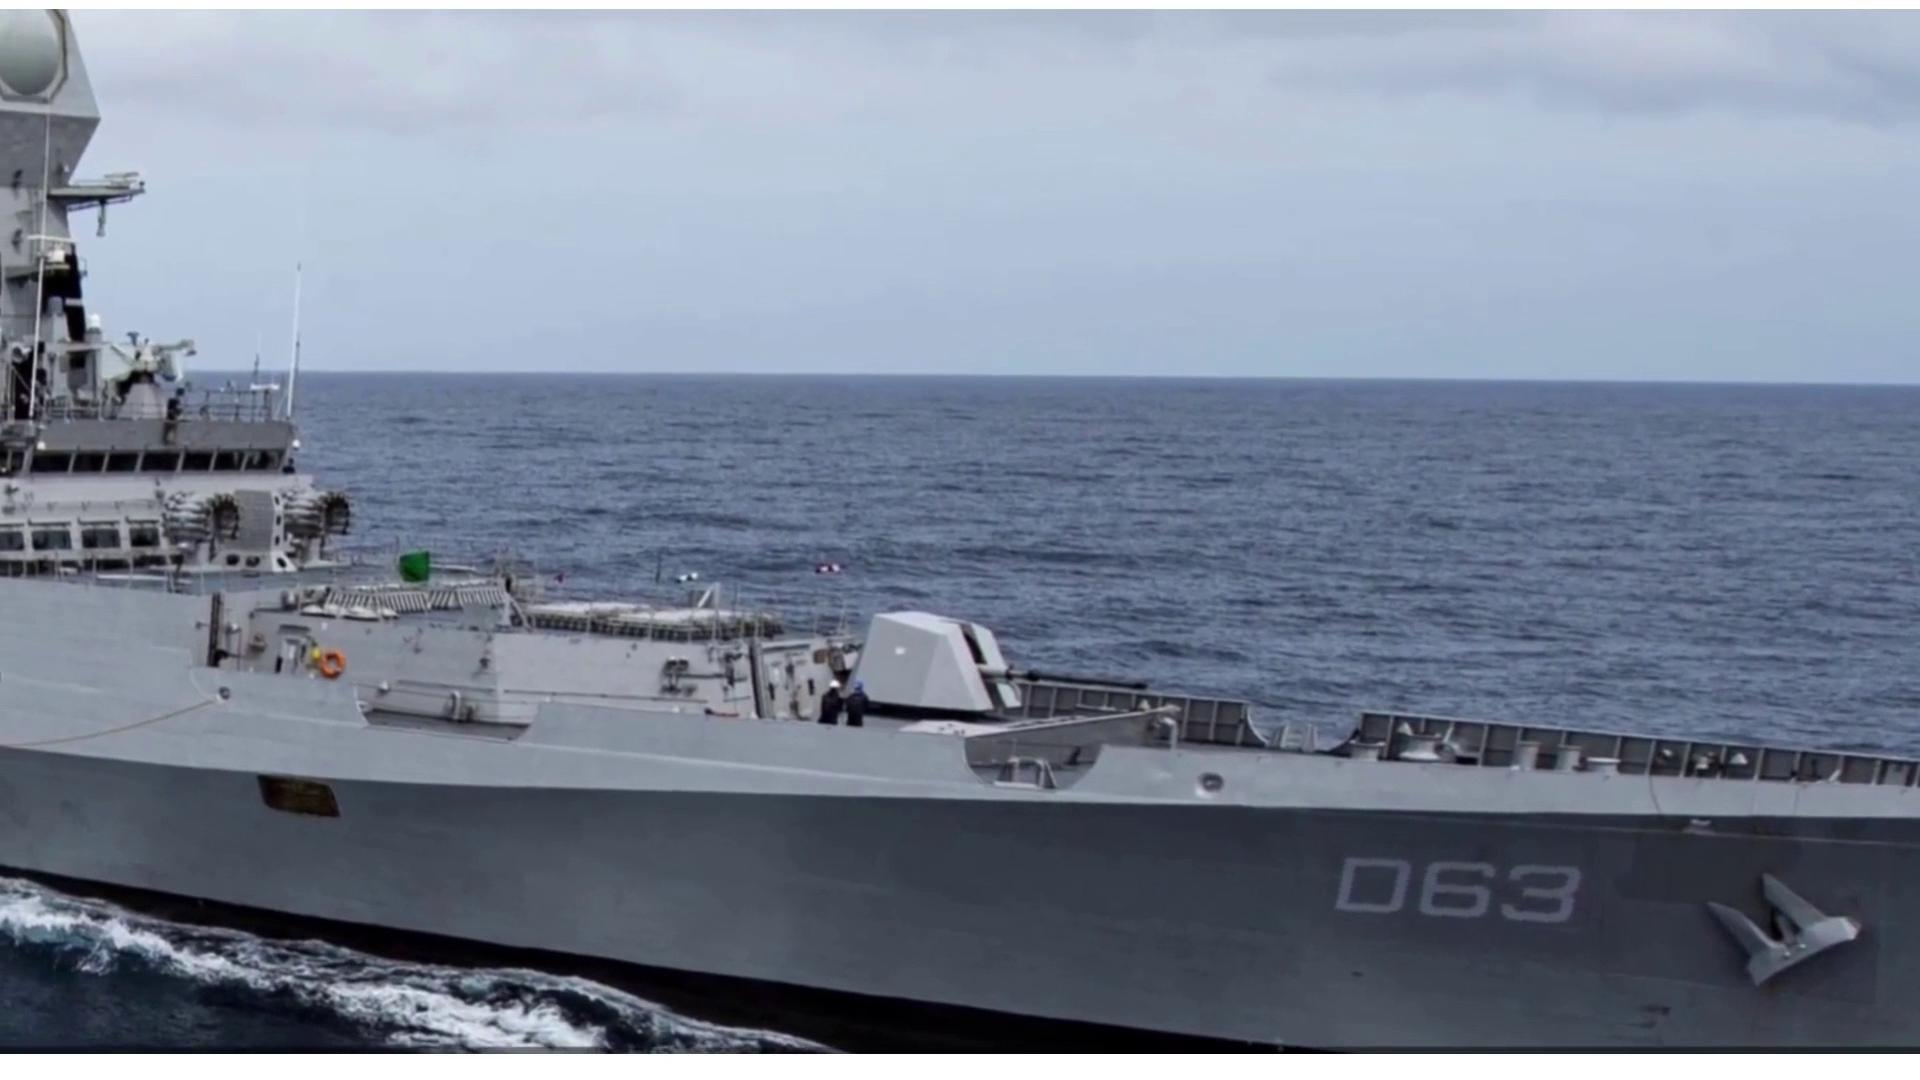OCR: (1333, 844, 1605, 942)
